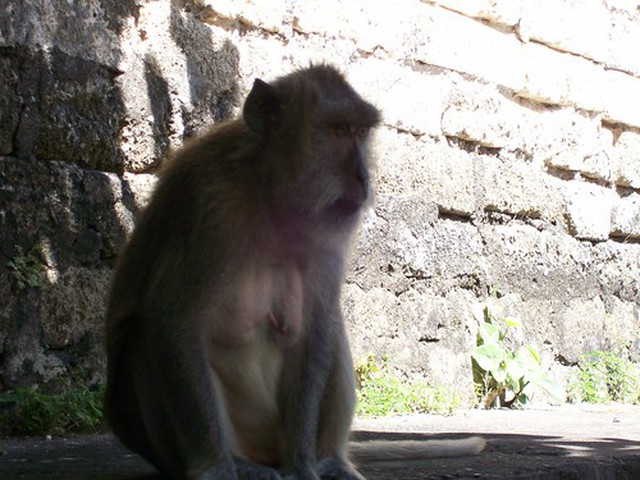Monkey: (98, 54, 374, 478)
